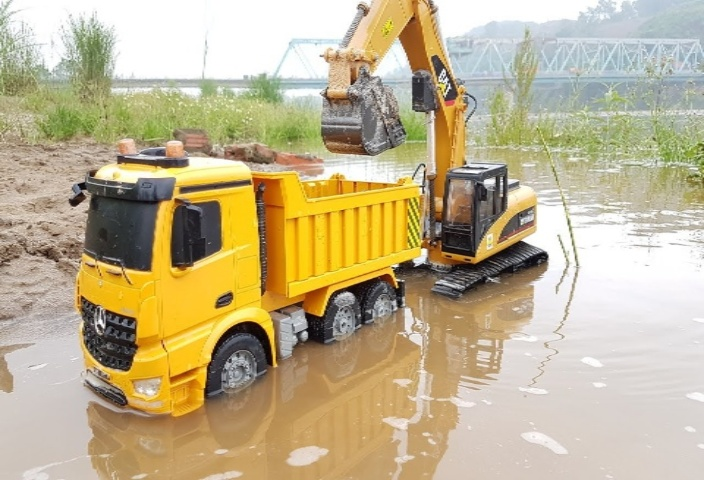industrial: (65, 1, 587, 444)
